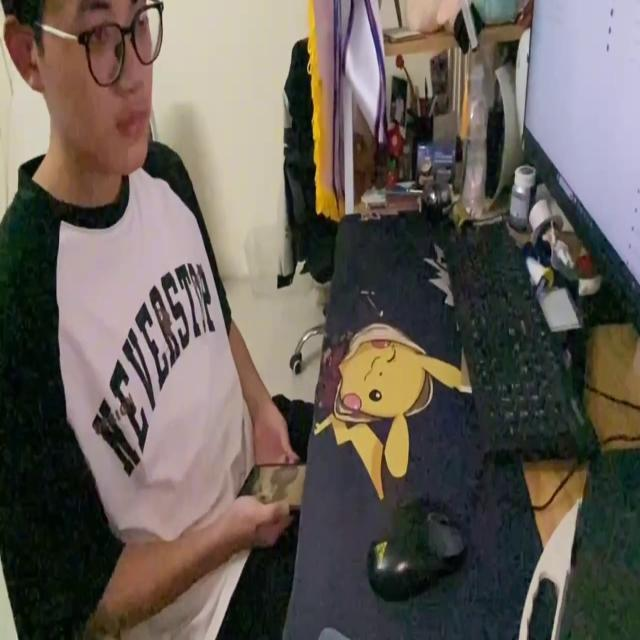laptop: (520, 0, 640, 332)
phone: (235, 454, 306, 513)
student: (0, 0, 308, 640)
